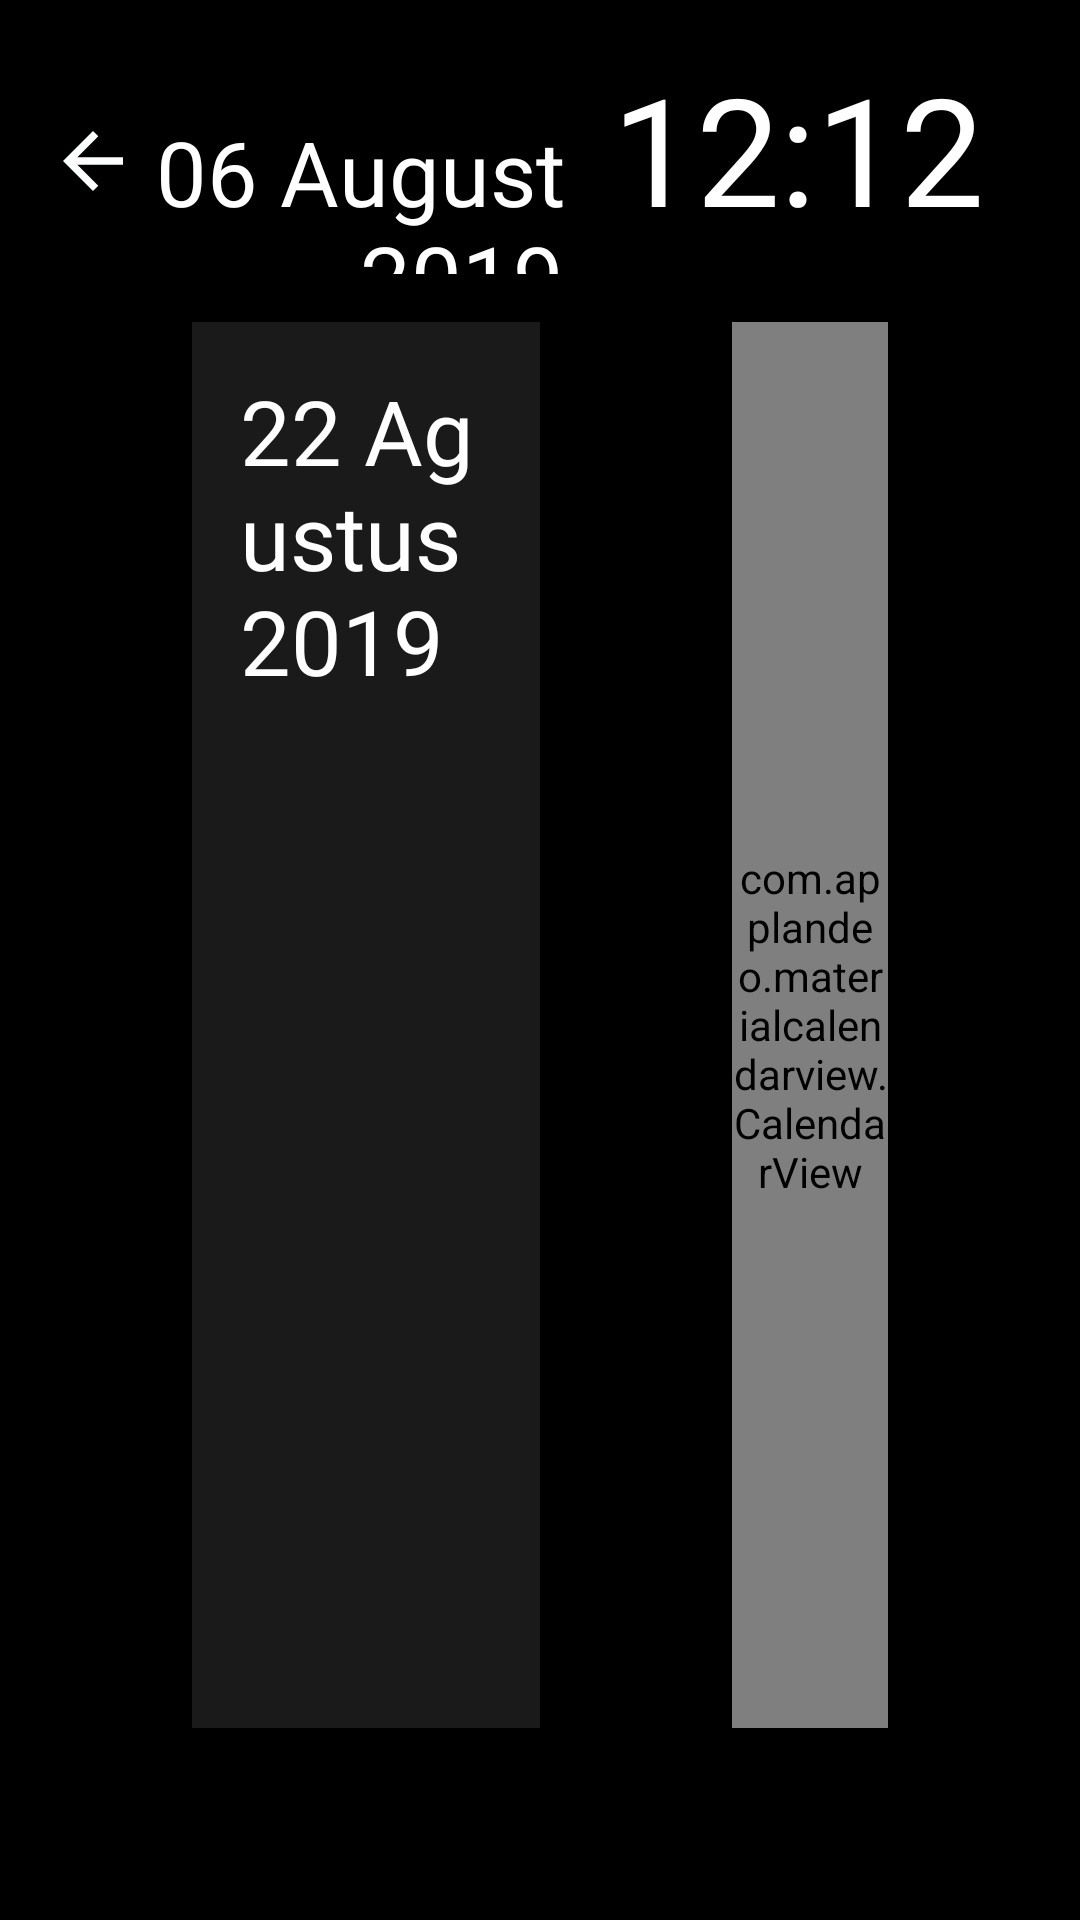

Point at icon controls on the screen. Image size 1080w x 1920h, points as [x,y].
arrow back: [93,161]
